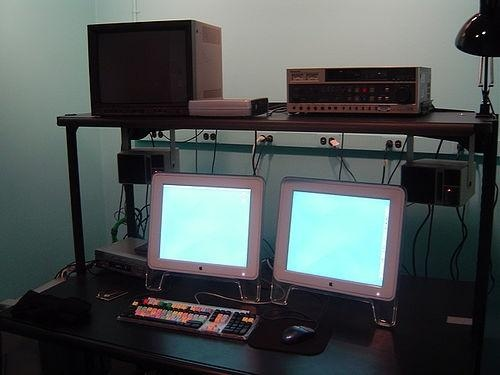tvmonitor: (274, 177, 407, 330), (145, 171, 262, 304), (87, 22, 224, 113)
